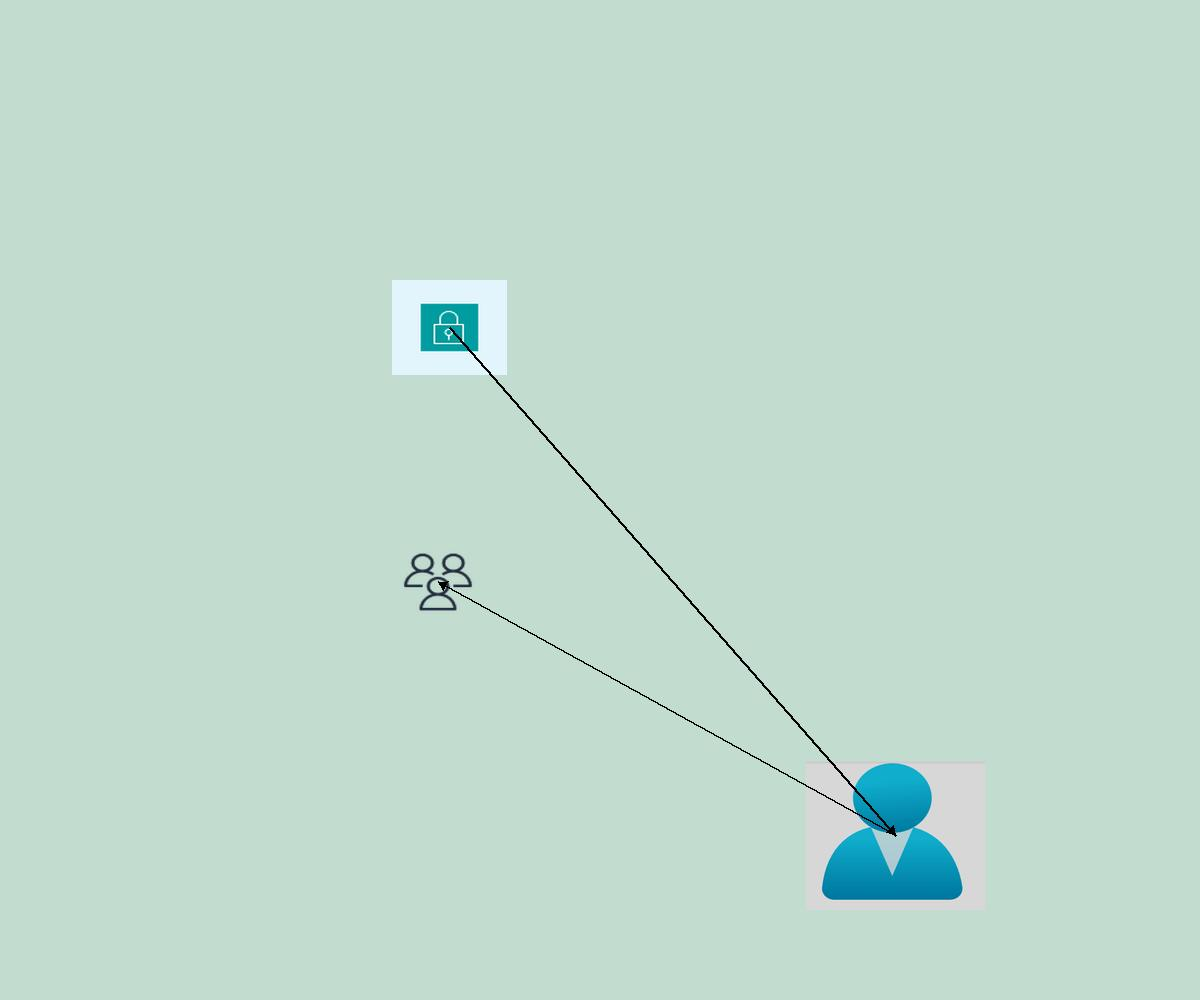AWS-Private-subnet: (392, 280, 507, 375)
AWS-Res_Users: (401, 551, 475, 613)
Azure_users: (806, 761, 985, 910)
